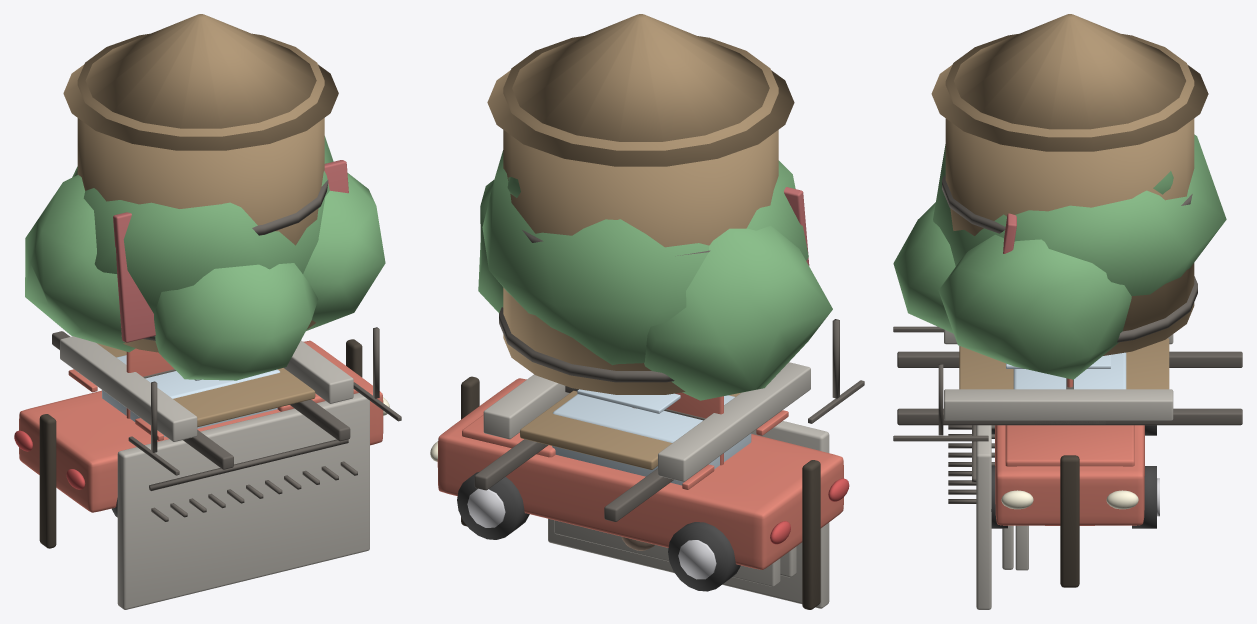
File: props.glb
3 views of the same model, side by side, from view 1: azimuth 30°, elevation 25°; view 2: azimuth 150°, elevation 25°; view 3: azimuth 270°, elevation 25° (orthographic). The views are drawn at different scales.
Parts seen in each view (by area): view 1: entrance, tree, watertank, car, balcony; view 2: watertank, tree, car, entrance, balcony; view 3: watertank, tree, car, entrance, balcony.
Part boxes in pixels (x1,y1,x2,y2): entrance: (60, 160, 401, 609); tree: (25, 136, 385, 380); watertank: (52, 14, 350, 469); car: (14, 339, 389, 548); balcony: (149, 439, 357, 521); watertank: (474, 14, 794, 521); tree: (478, 150, 832, 550); car: (430, 376, 849, 609); entrance: (483, 187, 864, 608); balcony: (554, 520, 780, 586); watertank: (897, 14, 1242, 425); tree: (893, 134, 1226, 379); car: (991, 352, 1159, 587); entrance: (893, 213, 1173, 609); balcony: (948, 425, 1028, 570).
Size of the model in its own units: 3.94 by 6.17 by 3.66.
